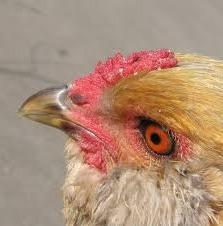AbNormal: (66, 46, 178, 104)
